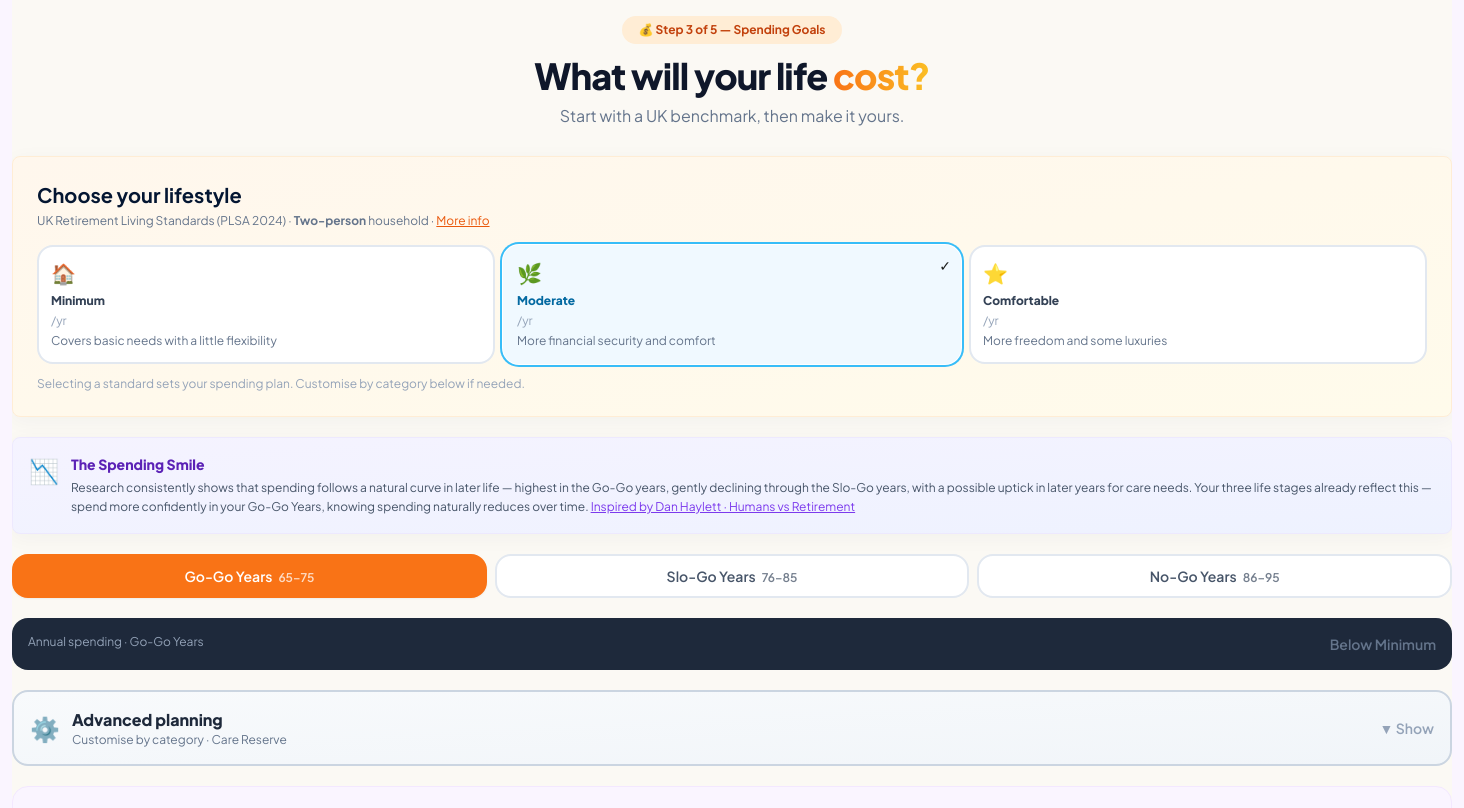
Test: Step2SpendingGoals › care reserve amount input is present when care reserve enabled
The width and height of the screenshot is (1464, 808).
Click the button "Advanced planning": (147, 719) [14,692,1450,764]
(page scrolled)
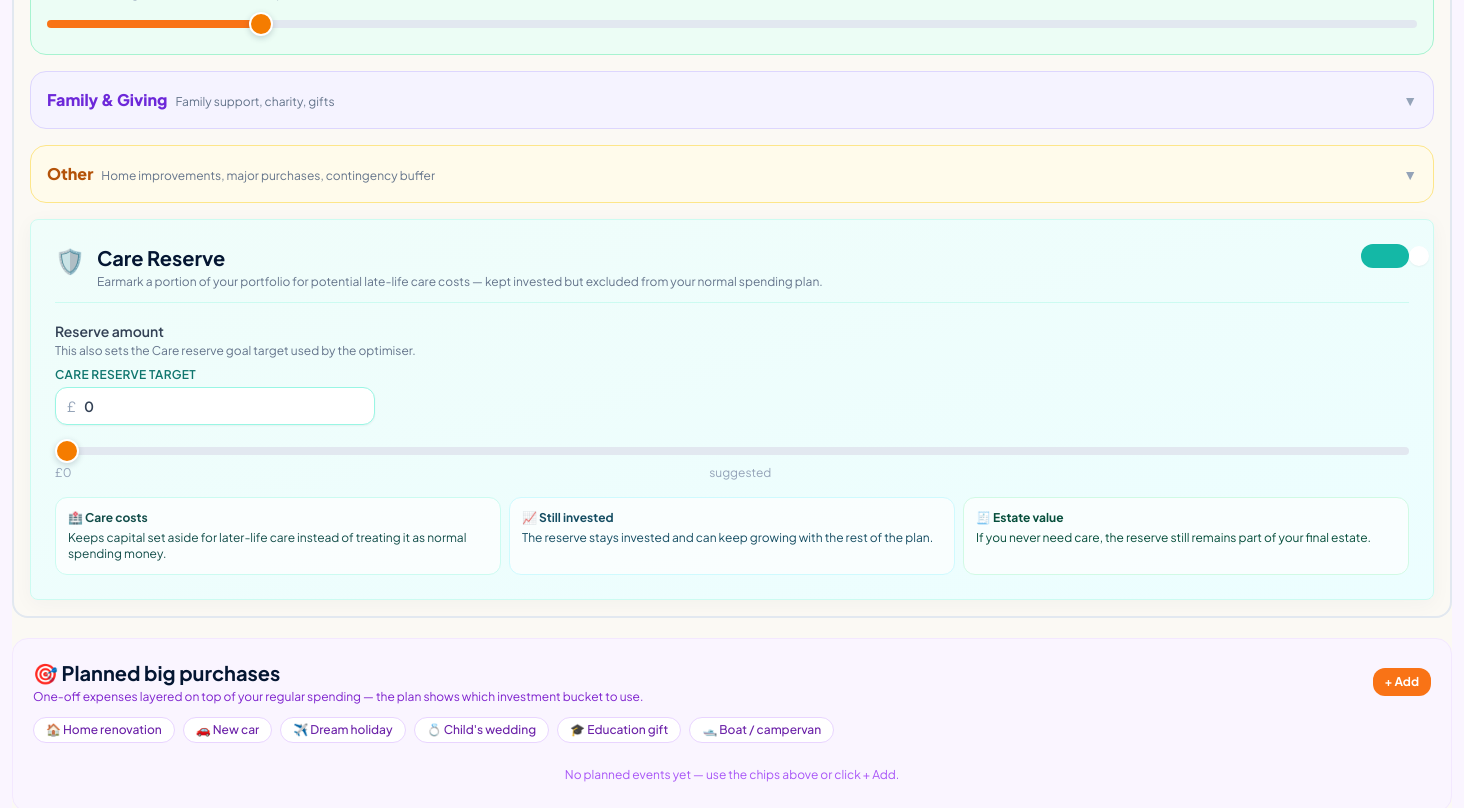
Check: the number field with test id "step2-care-reserve-amount" is shown, box [55,386,375,424]
